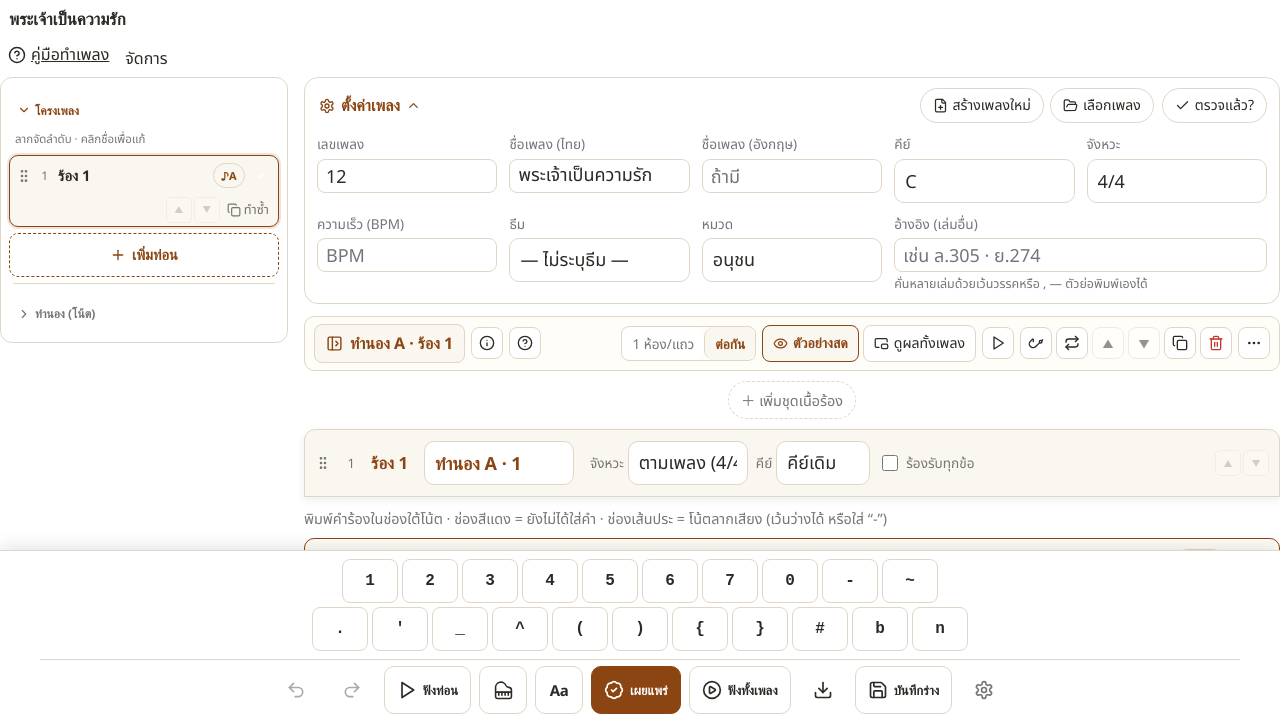
Test case: soft-delete — the delete button › first click only opens a confirm — nothing is deleted yet
Click the button with class "sb-text" showing "จัดการ" at (146,59), box [117,40,176,77]
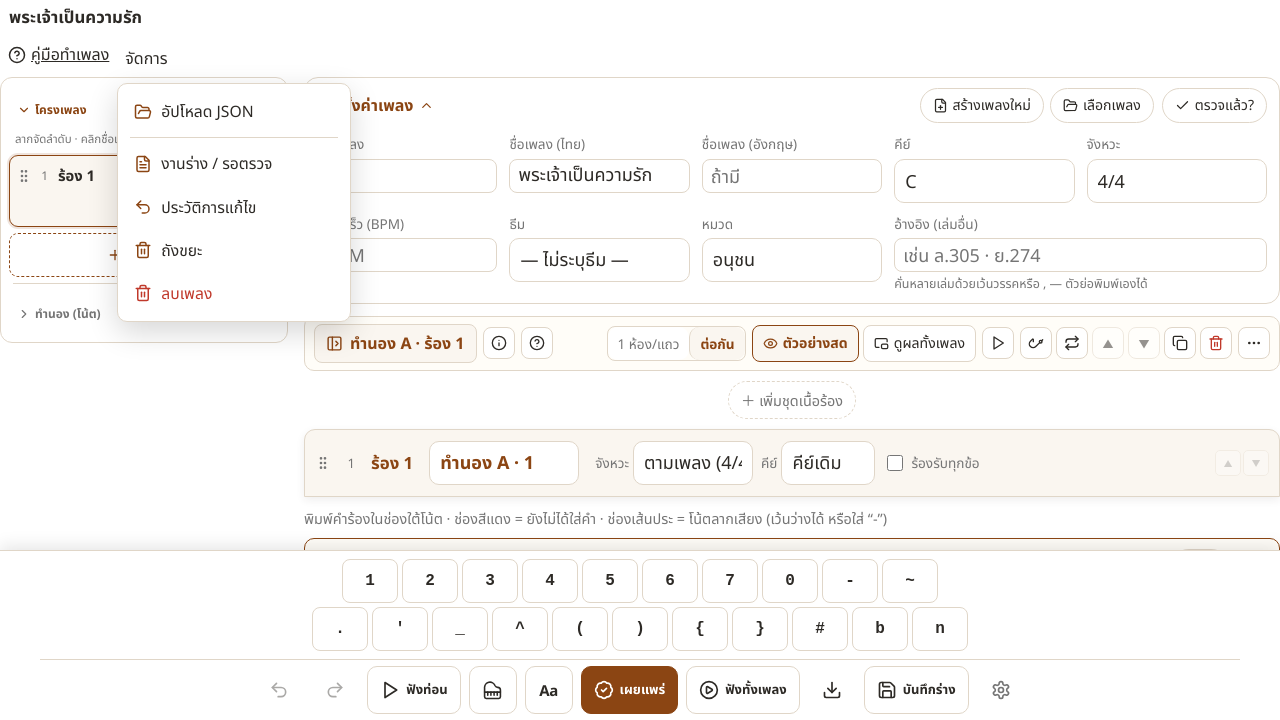
Click the menu item with class "sb-danger" at (234,293), box [124,272,344,315]
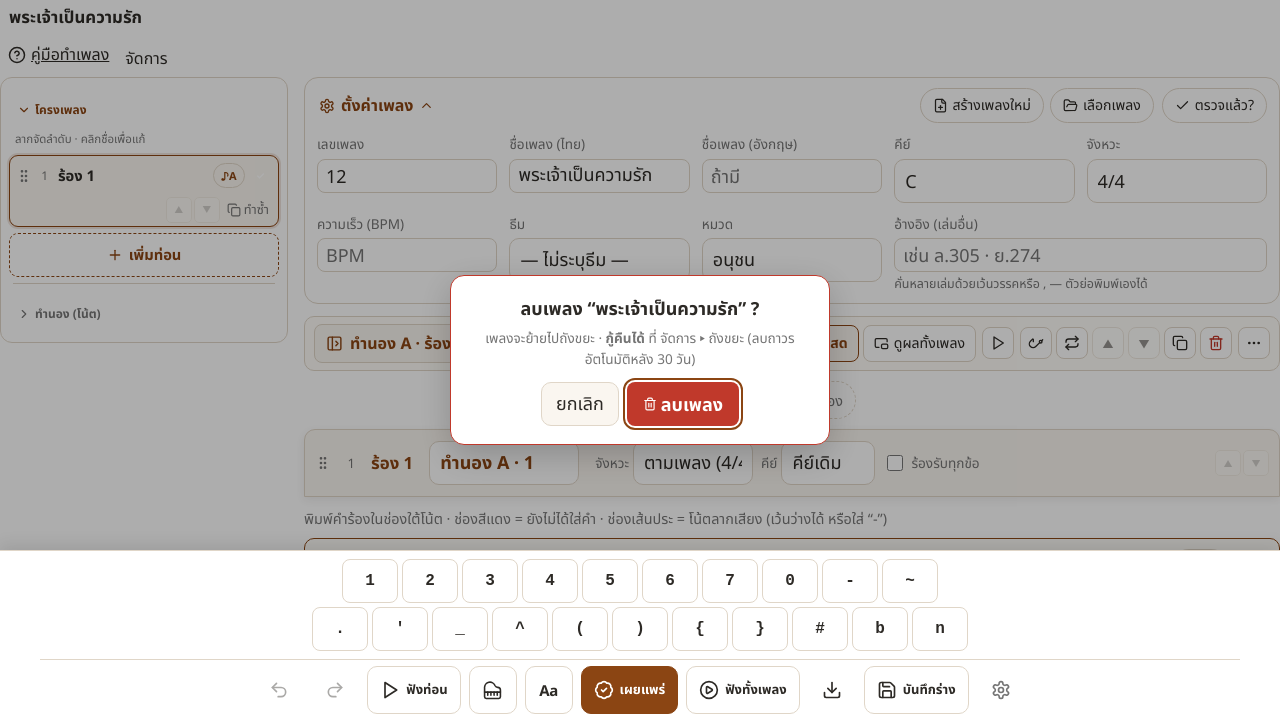
expect the element with class "del-song-box" is shown: met, box [450,275,830,445]
